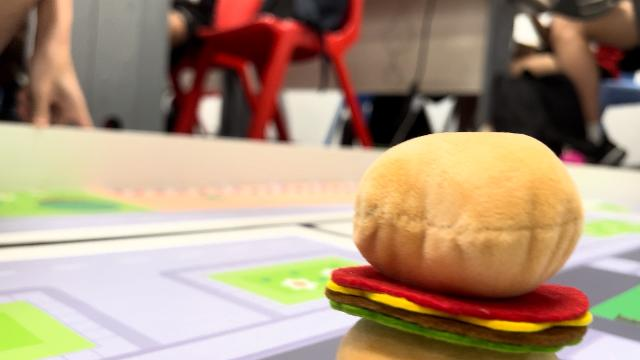burger: (323, 126, 597, 352)
